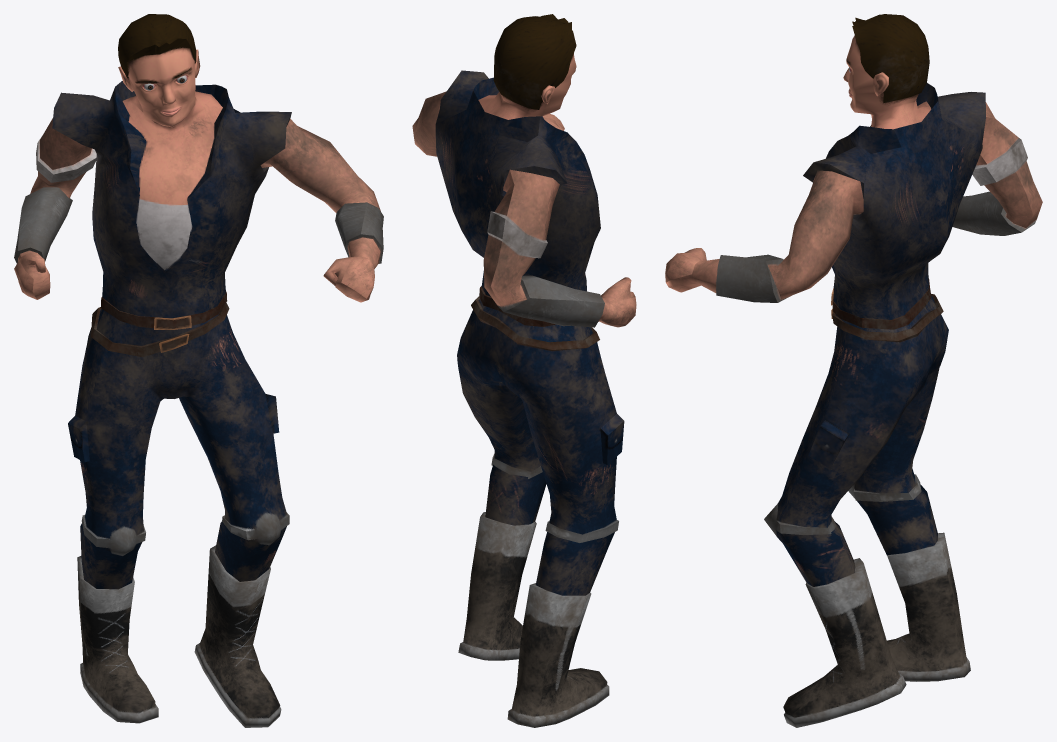
The model's file is Anim_ataque_d1_jugador.0019.obj.
3 renders of one model, left to right at view 1: azimuth 30°, elevation 25°; view 2: azimuth 150°, elevation 25°; view 3: azimuth 270°, elevation 25°, orthographic.
Parts seen in each view (by area): view 1: polySurface1; view 2: polySurface1; view 3: polySurface1.
Part boxes in pixels (left/top/right/bottom): polySurface1: left=14, top=14, right=383, bottom=727; polySurface1: left=412, top=14, right=636, bottom=727; polySurface1: left=665, top=14, right=1042, bottom=727.
Size of the model in its own units: 4.2 by 9.54 by 4.82.
